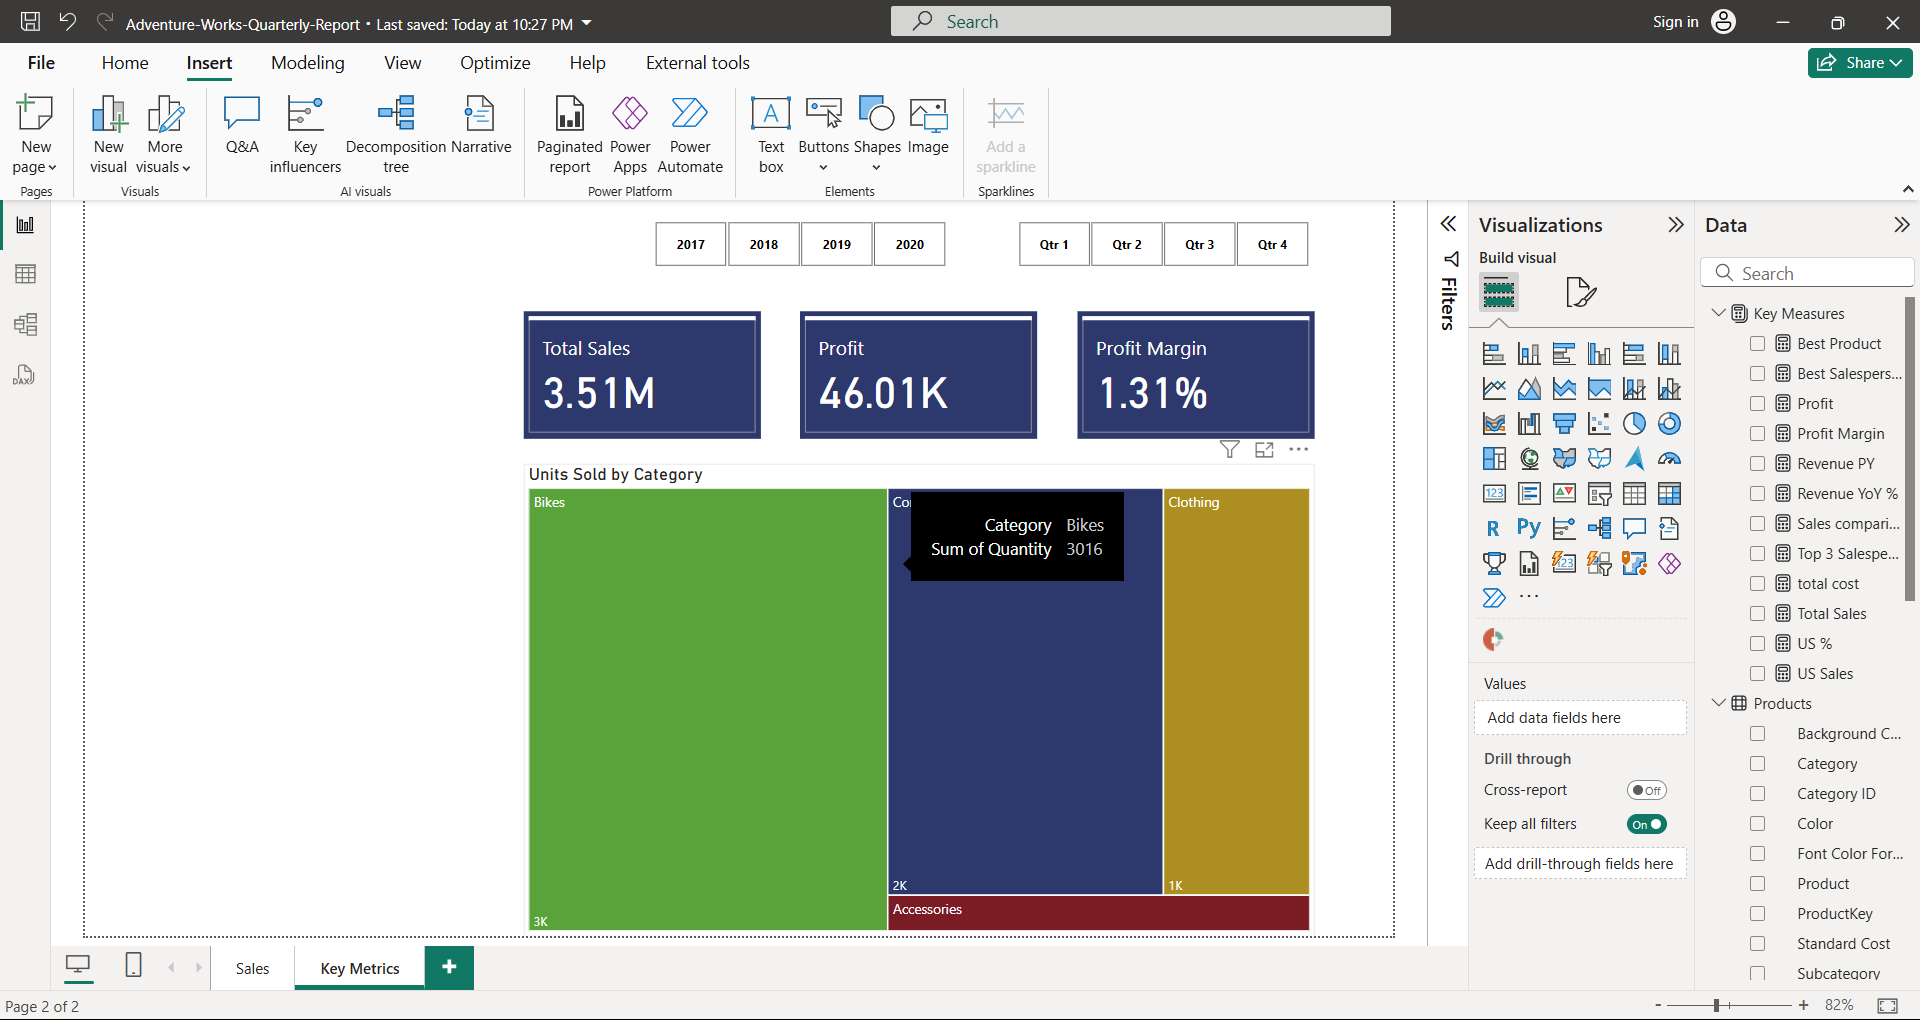

The dashboard page shown, as its layout file describes it:
{"tool":"powerbi","page":{"name":"Key Metrics","canvas":[1280,720],"ordinal":1},"visuals":[{"type":"cardVisual","fields":{"Data":["Key Measures.Total Sales"]},"box":[429.2,108.8,232.3,124.7],"z":0},{"type":"slicer","fields":{"Values":["Sales.OrderDate.Variation.Date Hierarchy.Year"]},"box":[531.9,14.7,333.8,56.3],"z":4001},{"type":"slicer","fields":{"Values":["Sales.OrderDate.Variation.Date Hierarchy.Quarter"]},"box":[887.8,14.7,332.6,56.3],"z":4002},{"type":"treemap","title":"Units Sold by Category","fields":{"Values":["Sum(Sales.Quantity)"],"Group":["Products.Category"]},"box":[429.2,258,774.1,462.2],"z":4003},{"type":"cardVisual","fields":{"Data":["Key Measures.Profit"]},"box":[699.5,108.8,232.3,124.7],"z":4005},{"type":"cardVisual","fields":{"Data":["Key Measures.Profit Margin"]},"box":[970.9,108.8,232.3,124.7],"z":4006}]}

Visuals, with their boxes on the page's 1280x720 design canvas (x1, y1, x2, y2). These are canvas units, not pixel positions in the 1920x1020 screenshot, which may show the page scaled, cropped or inside an application window:
cardVisual - Key Measures.Total Sales: <region>429, 109, 662, 234</region>
slicer - Sales.OrderDate.Variation.Date Hierarchy.Year: <region>532, 15, 866, 71</region>
slicer - Sales.OrderDate.Variation.Date Hierarchy.Quarter: <region>888, 15, 1220, 71</region>
"Units Sold by Category" treemap: <region>429, 258, 1203, 720</region>
cardVisual - Key Measures.Profit: <region>700, 109, 932, 234</region>
cardVisual - Key Measures.Profit Margin: <region>971, 109, 1203, 234</region>
